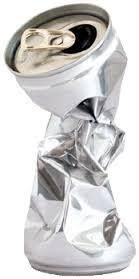can: (5, 3, 139, 276)
